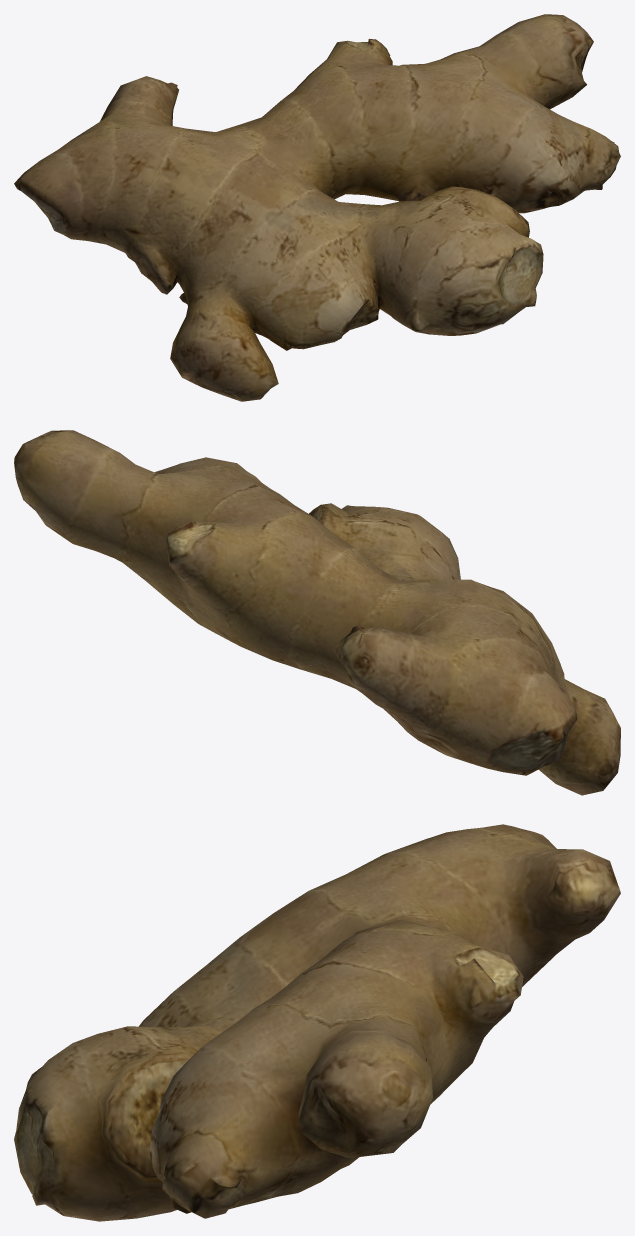
Rendered from BrownVegetableGinger.fbx.
The picture shows the model from 3 angles, top to bottom: view 1: azimuth 30°, elevation 25°; view 2: azimuth 150°, elevation 25°; view 3: azimuth 270°, elevation 25°; orthographic projection. The views are drawn at different scales.
Parts seen in each view (by area): view 1: Ginger; view 2: Ginger; view 3: Ginger.
Boxes of the visible parts, x1,y1,x2,y2 form: Ginger: [14, 14, 620, 401]; Ginger: [14, 430, 620, 795]; Ginger: [14, 824, 620, 1221].
Size of the model in its own units: 0.1429 by 0.1006 by 0.0647.
1 material, 1 textured.
